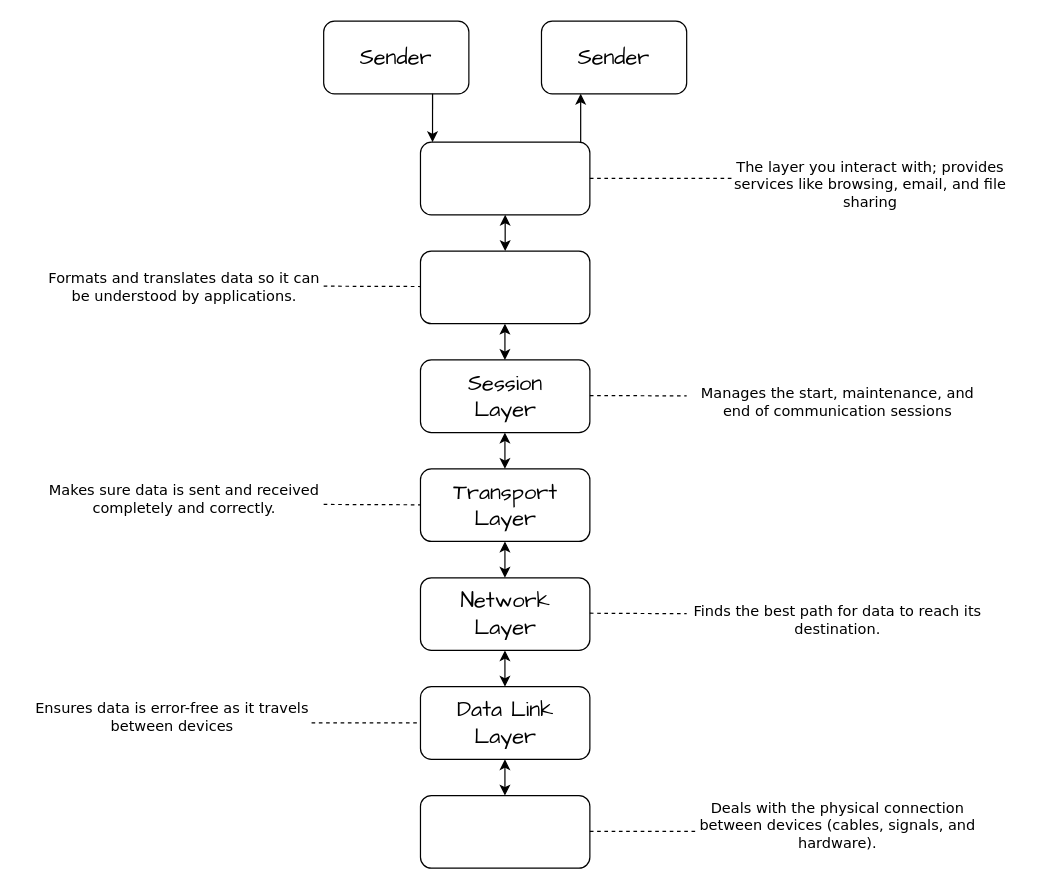
This 1042x889 diagram has some shape labels left out. The box of each missing label's shape, as (x1, y1, x2, y2) in pixels:
Application Layer: (419, 141, 590, 215)
Physical Layer: (419, 794, 590, 868)
Presentation Layer: (419, 250, 590, 324)
